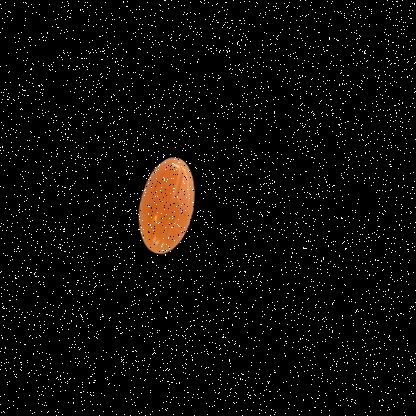welood: (113, 132, 235, 297)
